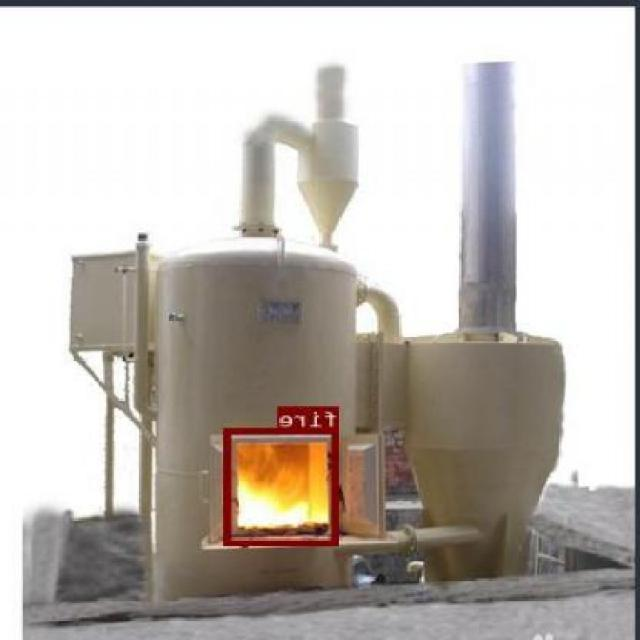Fire: (226, 427, 340, 544)
